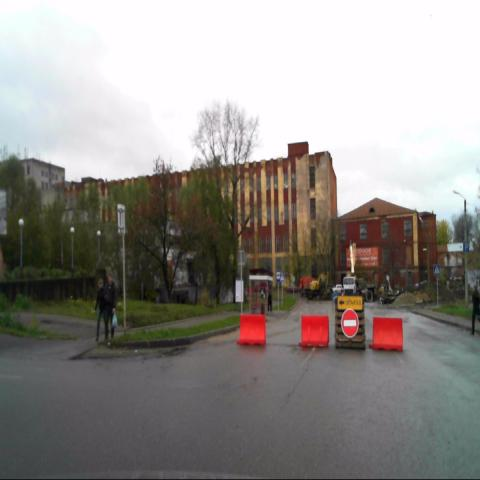3_1: (340, 307, 360, 340)
